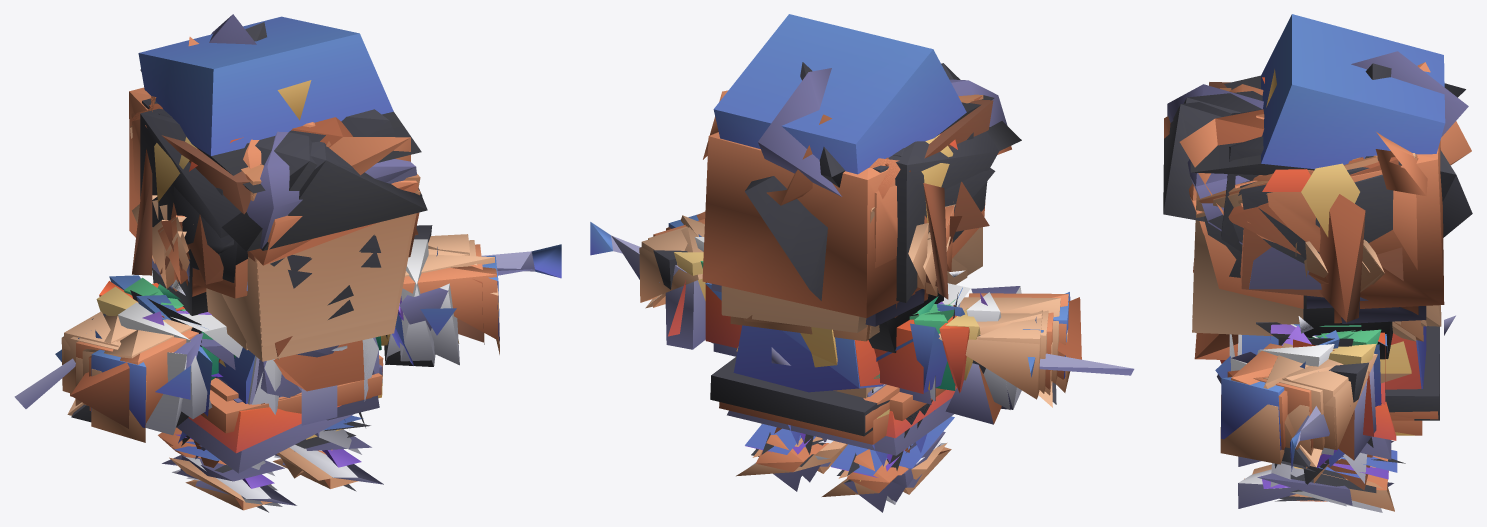
Rendered from kenney-mini-characters.glb.
The picture shows the model from 3 angles, left to right: view 1: azimuth 30°, elevation 25°; view 2: azimuth 150°, elevation 25°; view 3: azimuth 270°, elevation 25°; orthographic projection.
Parts seen in each view (by area): view 1: character-female-e, character-male-c, character-female-a, character-female-d, character-female-c, character-female-f, character-male-b, character-female-b, character-male-a, character-male-d, character-male-e, character-male-f; view 2: character-male-c, character-female-a, character-male-b, character-male-g, character-female-e, character-female-c, character-female-d, character-female-b, character-female-f, character-male-d, character-male-a, character-male-f (+1 smaller); view 3: character-male-c, character-female-e, character-female-d, character-female-f, character-female-c, character-female-b, character-male-b, character-male-g, character-female-a, character-male-d, character-male-a, character-male-e (+1 smaller).
Boxes of the visible parts, bbox=[...] form: character-female-e: bbox=[91, 112, 499, 505]; character-male-c: bbox=[61, 16, 469, 465]; character-female-a: bbox=[14, 22, 561, 506]; character-female-d: bbox=[91, 37, 499, 512]; character-female-c: bbox=[88, 14, 498, 510]; character-female-f: bbox=[82, 103, 494, 488]; character-male-b: bbox=[63, 126, 470, 484]; character-female-b: bbox=[70, 96, 477, 490]; character-male-a: bbox=[124, 98, 422, 473]; character-male-d: bbox=[75, 141, 484, 472]; character-male-e: bbox=[71, 214, 484, 460]; character-male-f: bbox=[75, 101, 482, 478]; character-male-c: bbox=[639, 14, 1041, 512]; character-female-a: bbox=[590, 62, 1134, 479]; character-male-b: bbox=[641, 207, 1042, 496]; character-male-g: bbox=[645, 238, 1052, 478]; character-female-e: bbox=[668, 94, 1070, 487]; character-female-c: bbox=[666, 68, 1068, 494]; character-female-d: bbox=[711, 114, 1070, 487]; character-female-b: bbox=[648, 90, 1048, 477]; character-female-f: bbox=[680, 100, 1060, 475]; character-male-d: bbox=[653, 232, 1052, 476]; character-male-a: bbox=[700, 166, 995, 504]; character-male-f: bbox=[653, 132, 1053, 501]; character-male-c: bbox=[1190, 14, 1445, 486]; character-female-e: bbox=[1163, 102, 1472, 508]; character-female-d: bbox=[1164, 62, 1471, 505]; character-female-f: bbox=[1179, 88, 1455, 488]; character-female-c: bbox=[1167, 51, 1468, 497]; character-female-b: bbox=[1229, 84, 1427, 512]; character-male-b: bbox=[1194, 153, 1441, 511]; character-male-g: bbox=[1249, 247, 1426, 501]; character-female-a: bbox=[1184, 63, 1465, 506]; character-male-d: bbox=[1253, 170, 1418, 499]; character-male-a: bbox=[1221, 136, 1414, 490]; character-male-e: bbox=[1240, 227, 1418, 501].
Bounding box in the file's own units: 1.05 × 0.7878 × 0.5171.
1 material, 1 textured.
